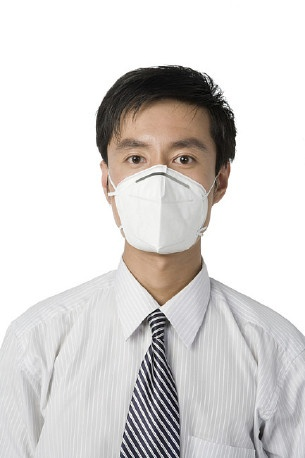Mask: (107, 136, 218, 246)
